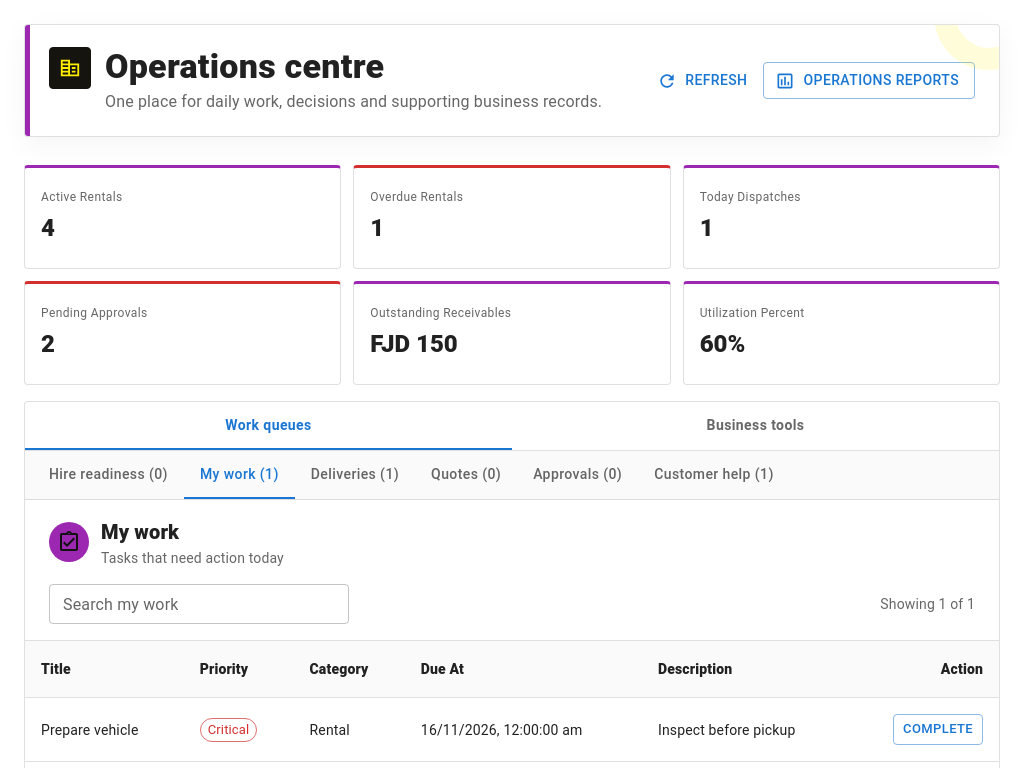
Test case: retains failed operational decisions {}
Later steps or results of the test are not shown.
Check: the text "Prepare vehicle" is shown, box [25,698,184,761]
Click the button "Complete".
click(938, 730)  # box [893,714,983,745]
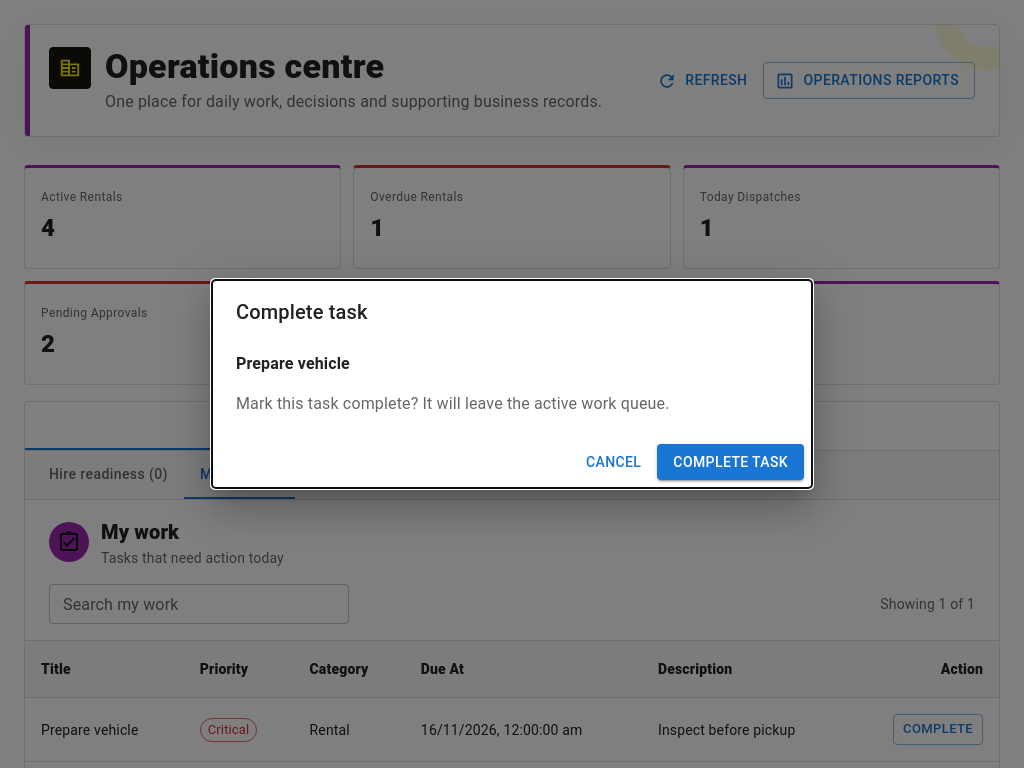
Click the button "Complete task".
click(731, 462)  # box [657,444,804,480]
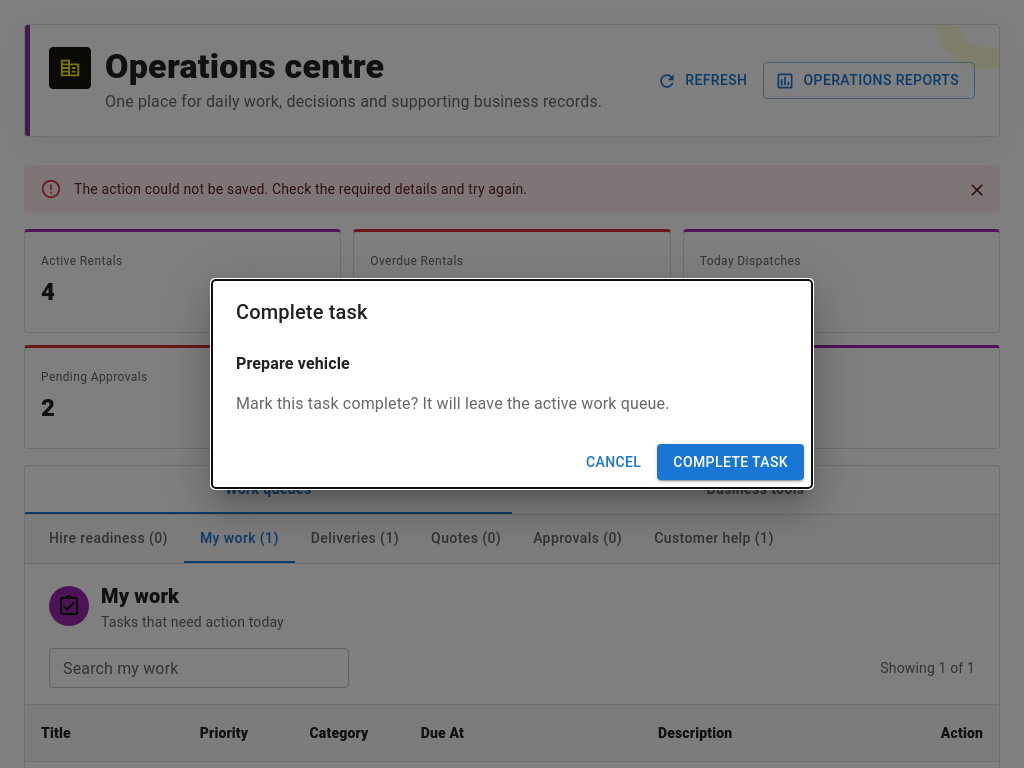
Check: the dialog is shown, box [212,280,812,488]
Check: the text "The action could not be saved. Check the required details and try again." is shown, box [74,179,527,199]
